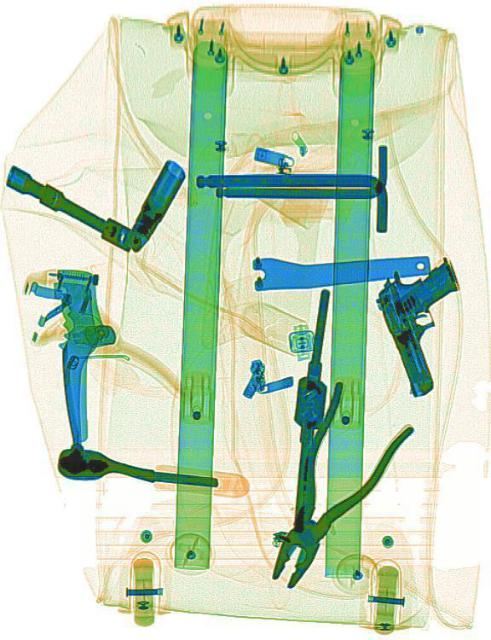Gun: (367, 244, 486, 401)
Pliers: (242, 371, 415, 614)
